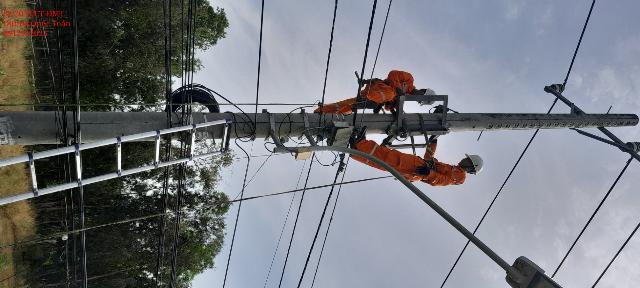gloves: (411, 159, 430, 180), (427, 133, 441, 145), (395, 86, 407, 99)
harness: (378, 76, 401, 115), (423, 154, 440, 184)
helmet: (462, 149, 488, 177), (411, 87, 441, 109)
shoes: (351, 94, 380, 112), (352, 127, 372, 145), (343, 130, 358, 152)
